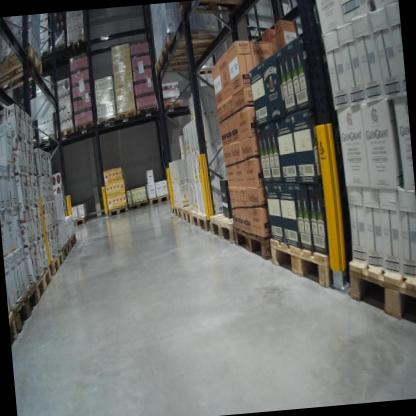pallet: (269, 229, 350, 303), (346, 254, 416, 334), (0, 41, 46, 97), (232, 219, 279, 265), (7, 278, 43, 336), (159, 28, 215, 62), (154, 47, 221, 75), (178, 0, 256, 23), (28, 260, 56, 304), (209, 207, 238, 245), (42, 247, 67, 280), (65, 32, 95, 58), (8, 306, 22, 351), (32, 130, 58, 153), (191, 208, 214, 232), (48, 41, 69, 67), (95, 113, 120, 134), (181, 202, 202, 226), (105, 201, 130, 218), (55, 125, 76, 145), (65, 211, 90, 227), (127, 197, 150, 213), (74, 120, 98, 135), (38, 46, 52, 71), (145, 193, 171, 206), (136, 101, 159, 115), (115, 108, 137, 122), (161, 98, 184, 110), (173, 202, 187, 221), (65, 232, 79, 251), (194, 66, 220, 76), (61, 238, 73, 258)
